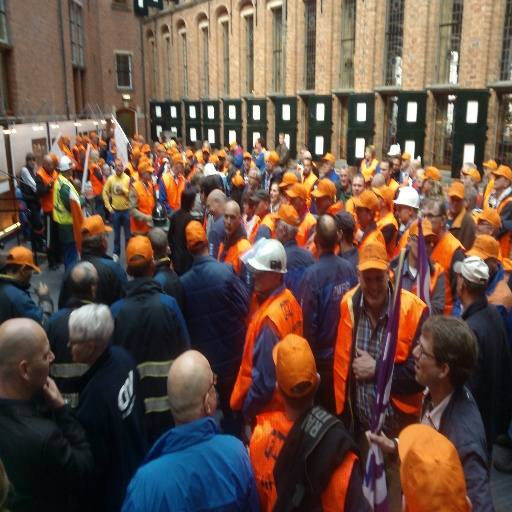hand: (350, 345, 376, 381), (42, 375, 65, 409), (368, 430, 396, 455), (36, 281, 50, 296), (353, 227, 364, 240), (279, 195, 288, 205), (143, 214, 152, 222), (115, 183, 123, 191), (108, 207, 115, 215)
